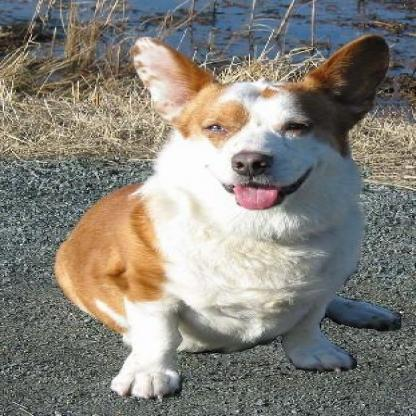Cardigan: (51, 34, 400, 400)
